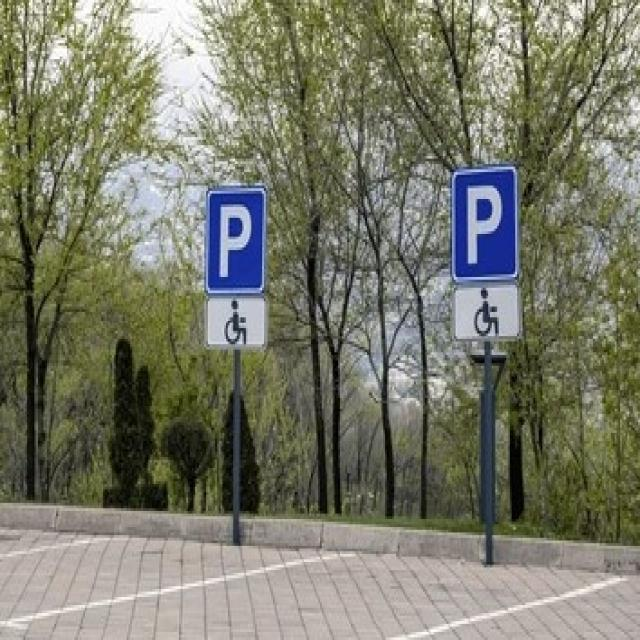symbol_of_access: (452, 283, 524, 339), (203, 295, 270, 349)
